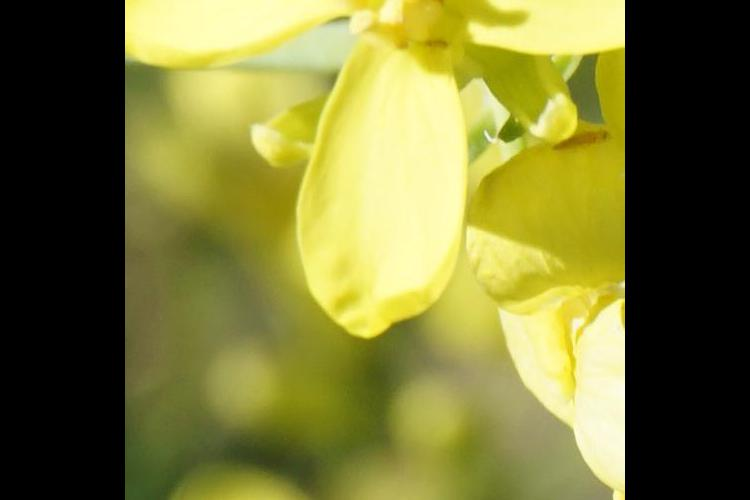yellow: (132, 1, 605, 346)
